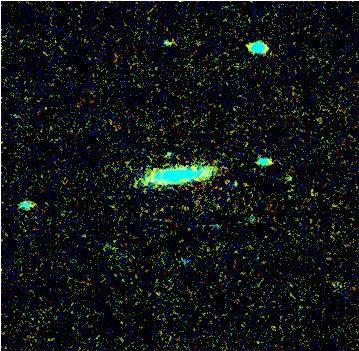star: (210, 166, 240, 196)
